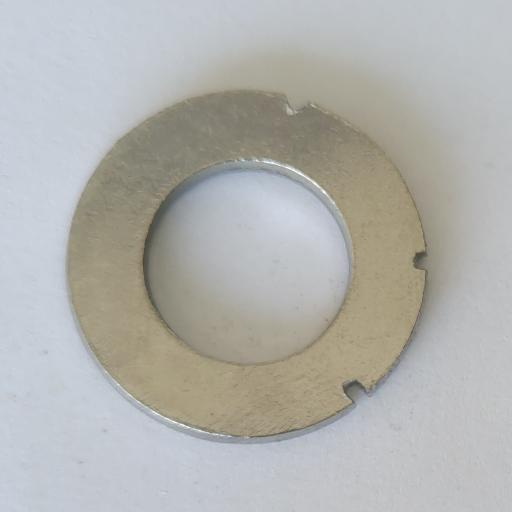burr: (342, 378, 371, 405), (282, 90, 313, 115), (411, 249, 431, 273)
